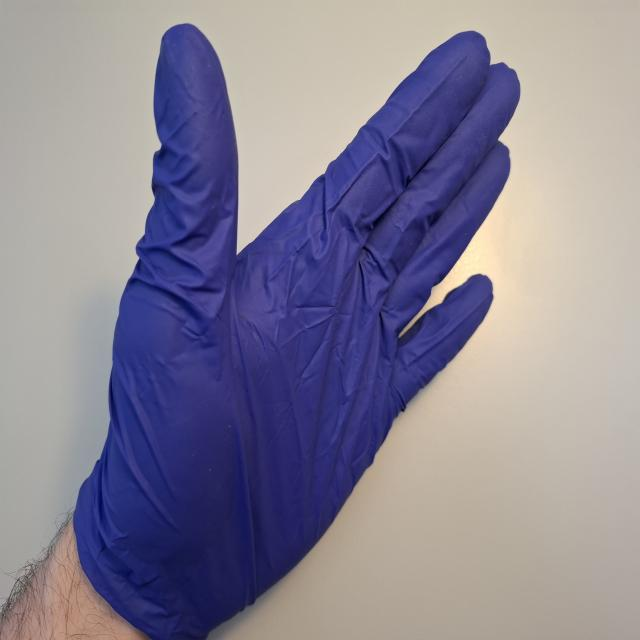glove_on: (66, 22, 522, 639)
